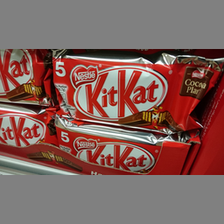chocolate: (54, 53, 209, 133), (49, 115, 184, 175), (1, 51, 58, 106), (1, 103, 54, 145)
